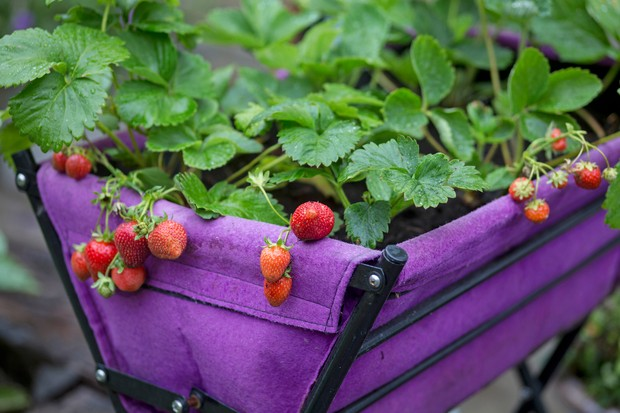ripe_strawberry: (291, 201, 336, 244), (147, 218, 189, 261), (115, 219, 148, 270), (84, 238, 118, 283), (260, 240, 293, 284), (262, 273, 293, 308), (113, 266, 148, 294), (522, 198, 552, 227), (574, 162, 603, 191), (71, 244, 93, 281), (65, 153, 93, 182), (508, 176, 536, 203), (551, 171, 570, 192), (51, 151, 68, 174)
unripe_strawberry: (94, 278, 114, 300)
